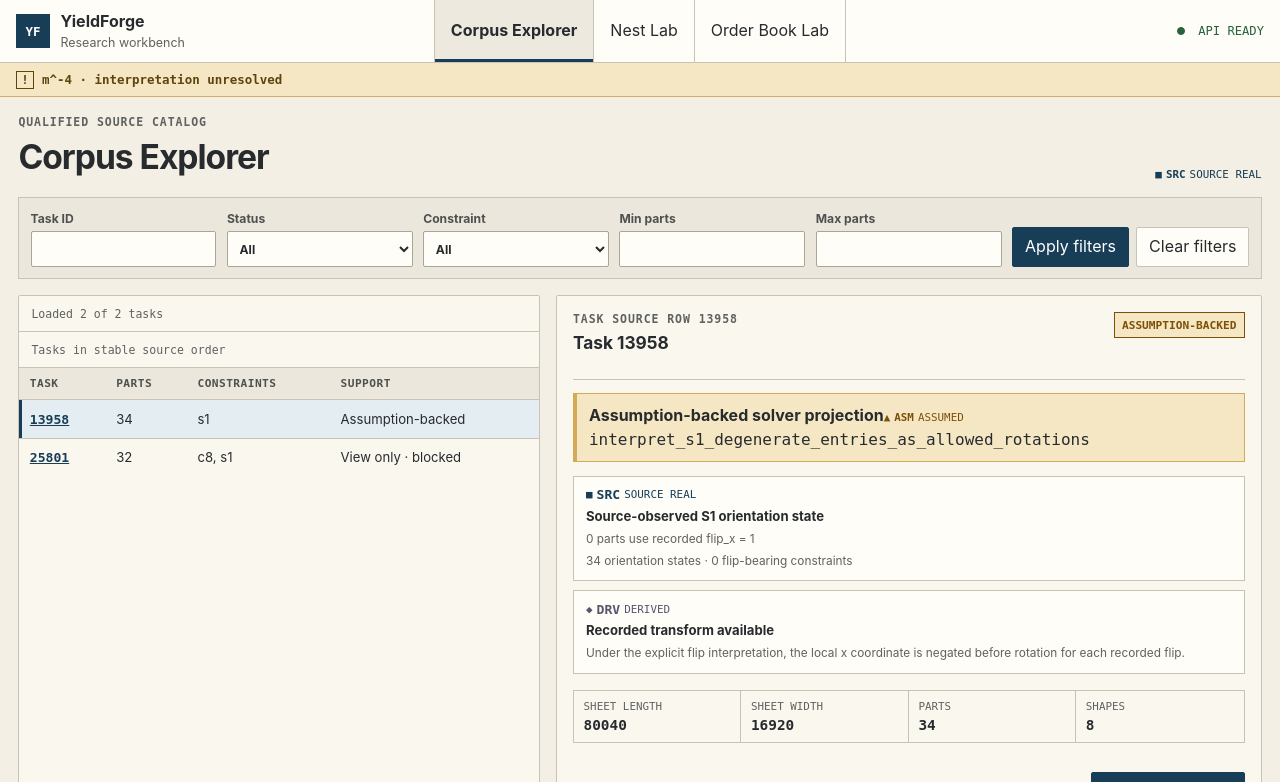
Test: research workbench › keeps the corpus inspector inside filtered results and clears it for no matches
Check: the heading "Task 13958" is shown, box [573,332,669,352]
Select "View only (1)" in the dropdown labelled "Status" at (320, 249), box [227,231,413,267]
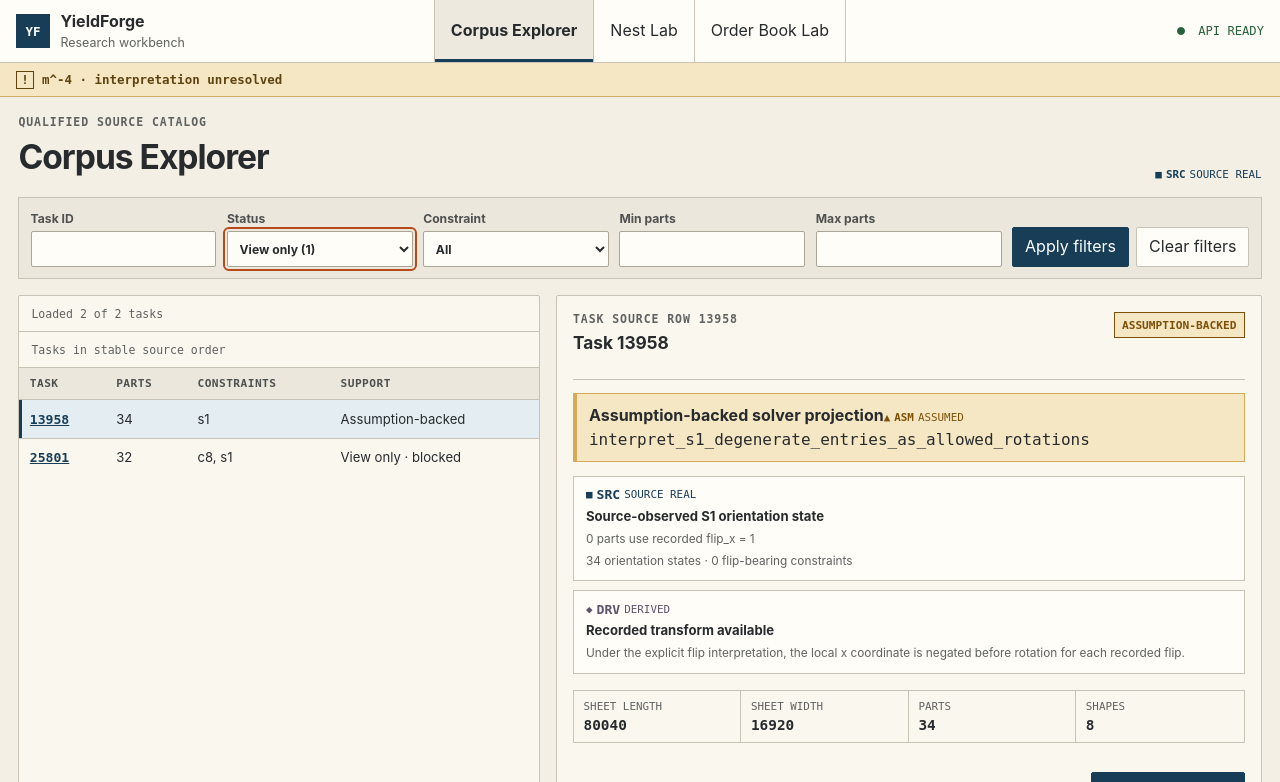
Click the button "Apply filters" at (1071, 247), box [1012,227,1129,267]
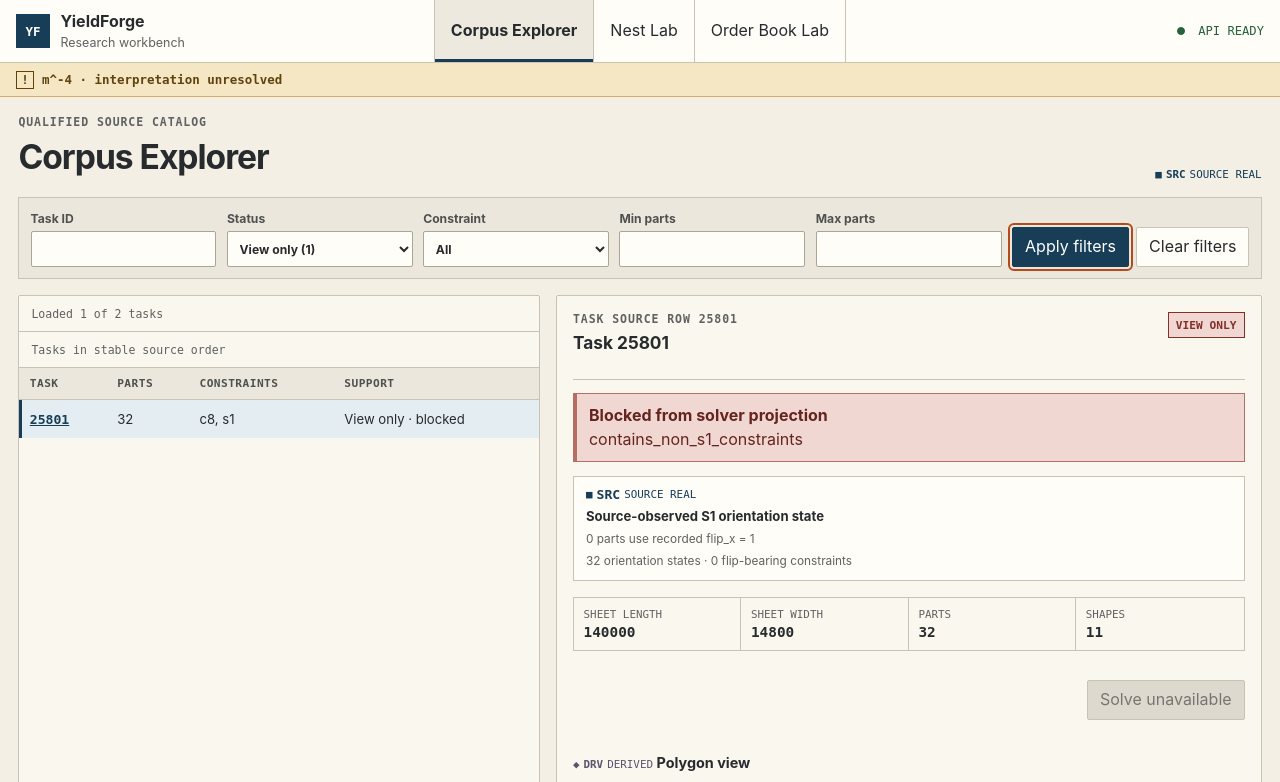
Check: the heading "Task 25801" is shown, box [573,332,669,352]
Type "999" into the field labelled "Task ID" at (124, 249), box [31,231,216,267]
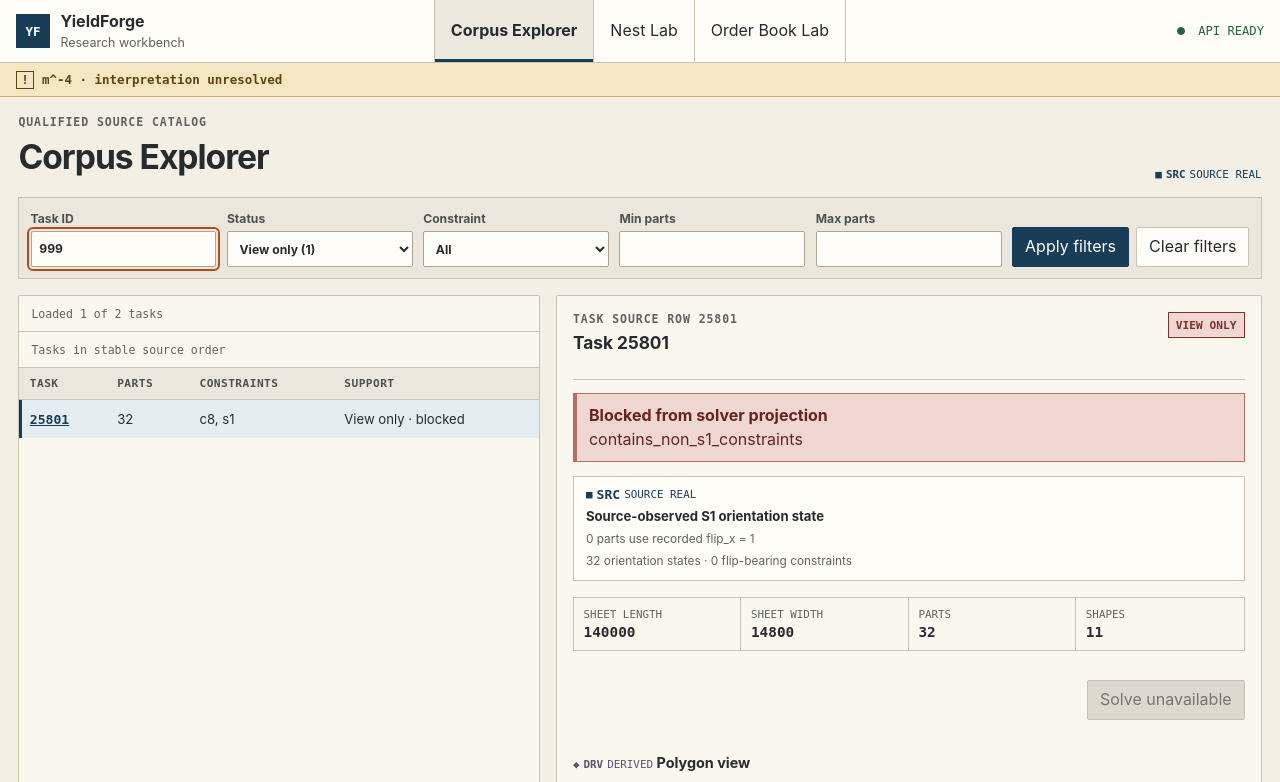
Click the button "Apply filters" at (1071, 247), box [1012,227,1129,267]
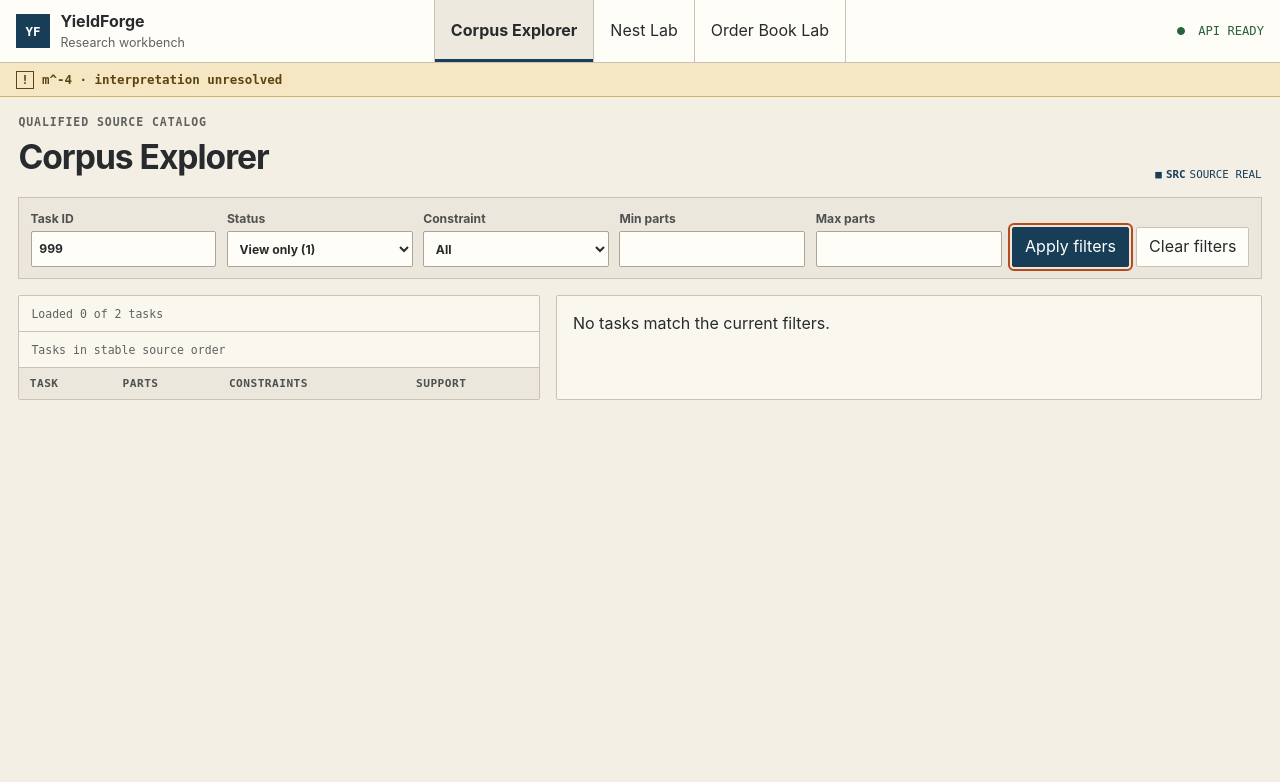
Check: the text "No tasks match the current filters." is shown, box [573,313,830,333]
Check: the heading "Task 25801" is gone
